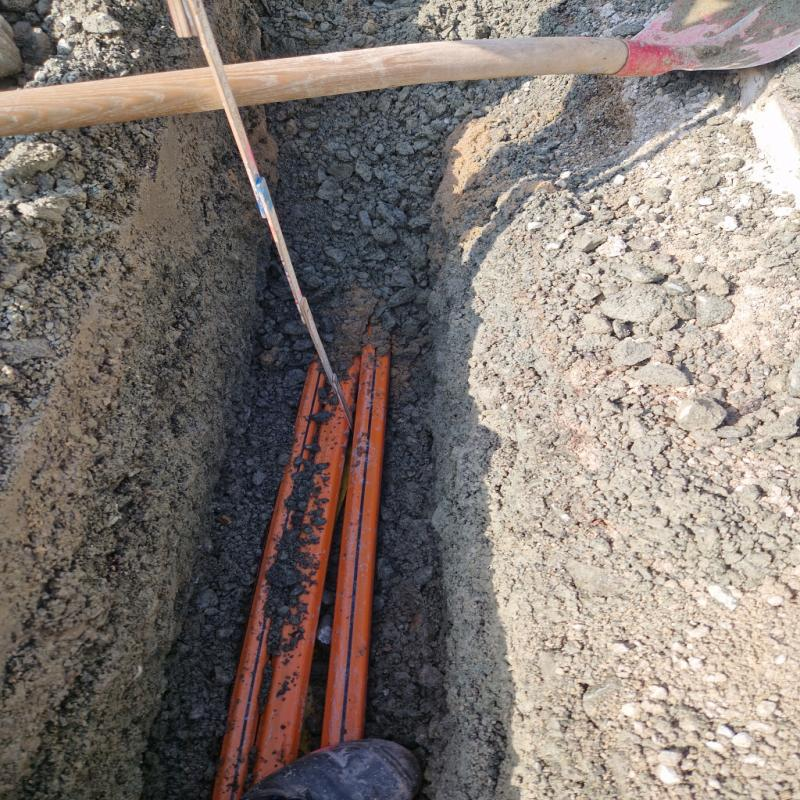Orang-Speednetrohrchen: (219, 353, 384, 786)
